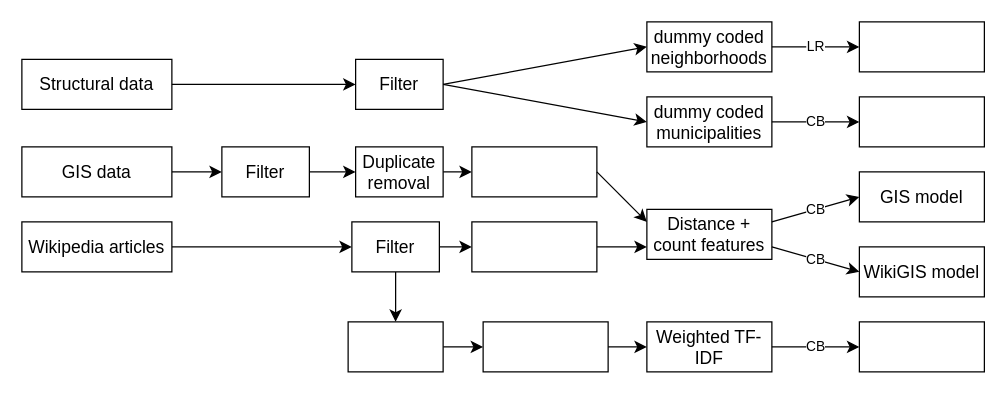
This 1006x394 diagram has some shape labels left out. The box of each missing label's shape, as (x1, y1, x2, y2) in pixels:
Adv. Baseline: (858, 96, 984, 147)
Baseline: (858, 21, 984, 72)
Extract templates: (471, 221, 597, 272)
Filter common categories: (471, 146, 597, 197)
Filter common words: (482, 321, 608, 372)
Text model: (858, 321, 984, 372)
tokenizing + 2-grams: (347, 321, 443, 372)
